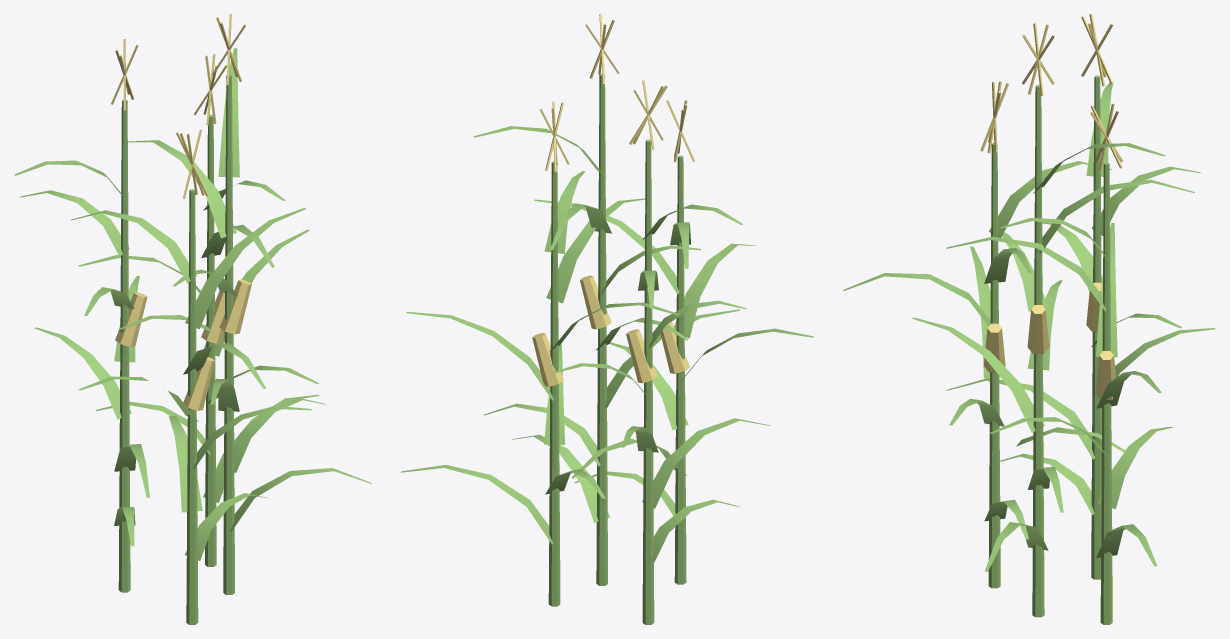
File: Uprawa_Kukurydza_1.fbx
3 views of the same model, side by side, from view 1: azimuth 30°, elevation 25°; view 2: azimuth 150°, elevation 25°; view 3: azimuth 270°, elevation 25° (orthographic). The views are drawn at different scales.
Parts seen in each view (by area): view 1: Uprawa_Kukurydza_1; view 2: Uprawa_Kukurydza_1; view 3: Uprawa_Kukurydza_1.
Boxes of the visible parts, left/top/right/bottom form: Uprawa_Kukurydza_1: left=14, top=14, right=371, bottom=624; Uprawa_Kukurydza_1: left=400, top=14, right=814, bottom=624; Uprawa_Kukurydza_1: left=843, top=14, right=1215, bottom=624.
Size of the model in its own units: 1.6 by 2.66 by 1.53.
